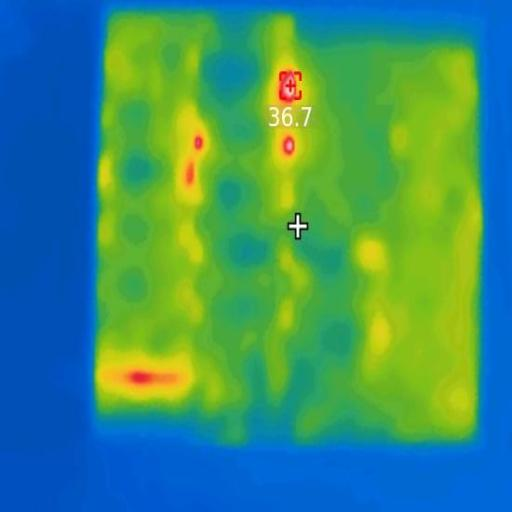hotspot: (281, 70, 303, 106), (182, 161, 196, 193), (127, 372, 159, 386), (282, 134, 300, 158), (192, 135, 206, 156)
